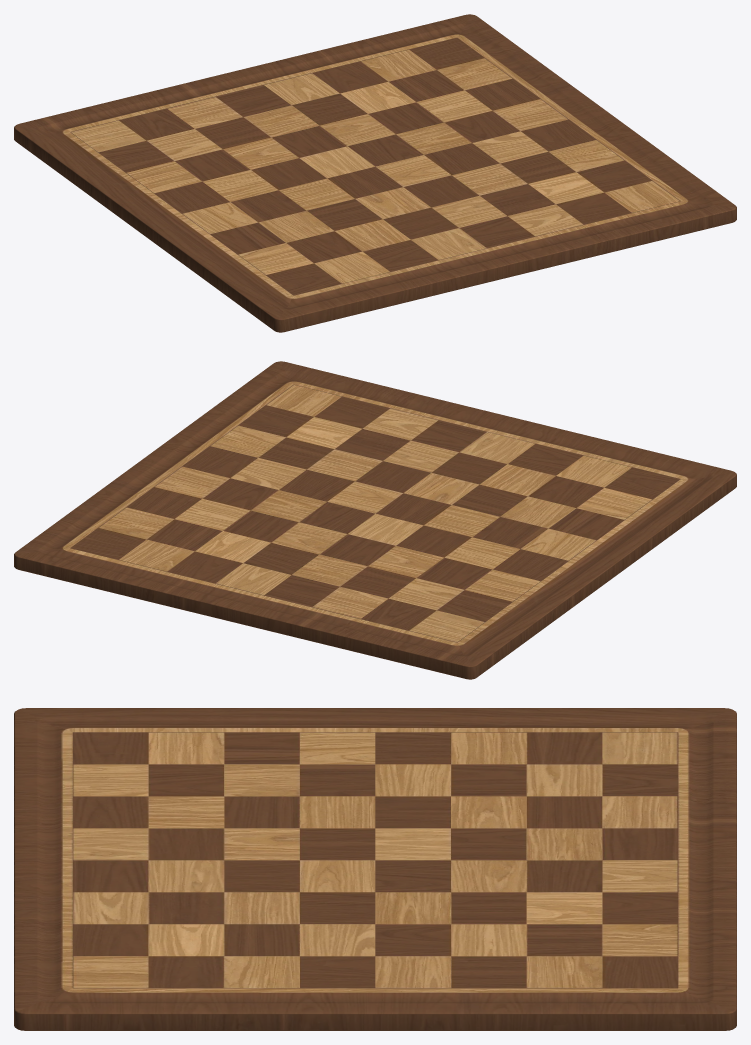
Rendered from chess-board-wood-v1-2k.glb.
The picture shows the model from 3 angles, top to bottom: view 1: azimuth 30°, elevation 25°; view 2: azimuth 150°, elevation 25°; view 3: azimuth 270°, elevation 25°; orthographic projection. The views are drawn at different scales.
Visible parts, largest first — view 1: board; view 2: board; view 3: board.
Boxes of the visible parts, x1,y1,x2,y2 form: board: (14, 14, 736, 332); board: (14, 361, 736, 679); board: (14, 708, 736, 1030).
Bounding box in the file's own units: 0.5532 × 0.0174 × 0.5532.
1 material, 1 textured.
